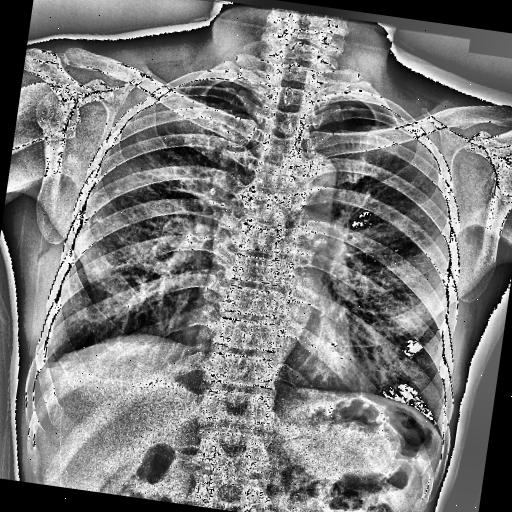0- Aortic enlargement: (210, 142, 340, 275), (280, 145, 340, 211), (272, 146, 340, 200)
10- Pleural effusion: (31, 354, 72, 387), (38, 348, 63, 384), (42, 360, 54, 372)
11- Pleural thickening: (31, 354, 72, 387), (38, 348, 63, 384), (42, 360, 54, 372)
13- Pulmonary fibrosis: (156, 182, 228, 209), (80, 214, 107, 230), (110, 187, 130, 196)
7- Lung Opacity: (62, 73, 254, 350), (308, 133, 458, 390)
